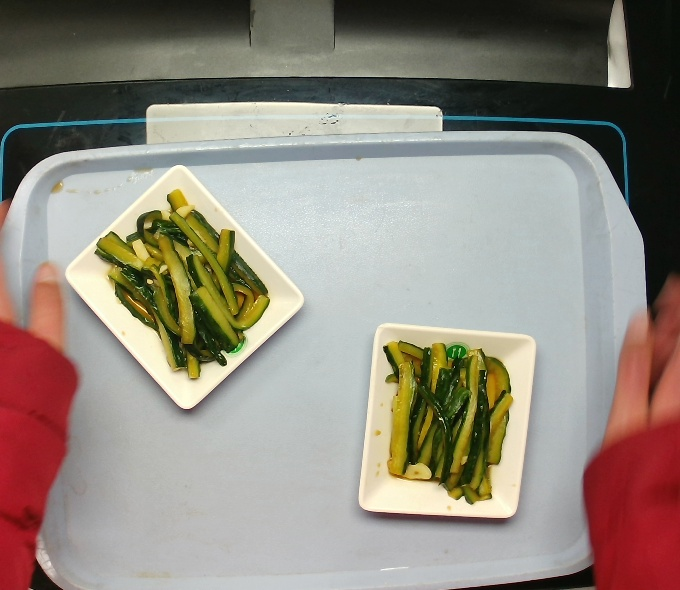wcq-LiangBanHuangGua: (93, 187, 271, 381), (381, 338, 514, 506)
